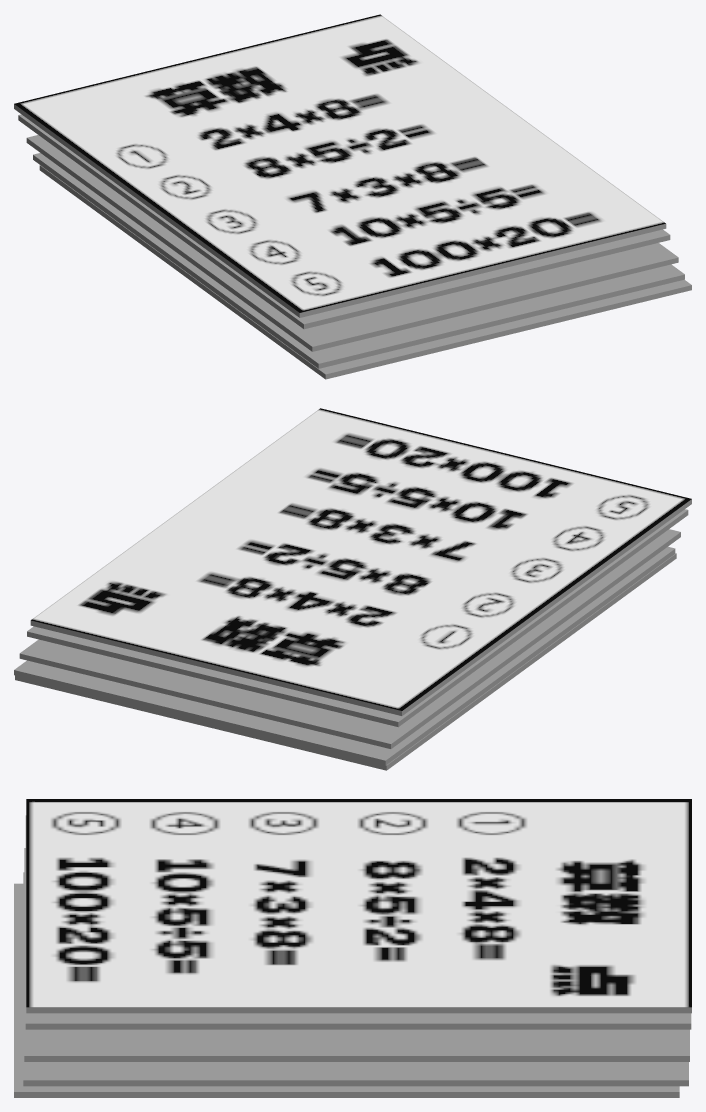
The model's file is テスト束.fbx.
The picture shows the model from 3 angles, top to bottom: view 1: azimuth 30°, elevation 25°; view 2: azimuth 150°, elevation 25°; view 3: azimuth 270°, elevation 25°; orthographic projection. The views are drawn at different scales.
Visible parts, largest first — view 1: pCube14; view 2: pCube14; view 3: pCube14.
Boxes of the visible parts, box(x1,y1,x2,y2) form: pCube14: box(14, 14, 691, 379); pCube14: box(14, 408, 691, 770); pCube14: box(14, 799, 691, 1097).
Size of the model in its own units: 6.55 by 1.09 by 8.53.
